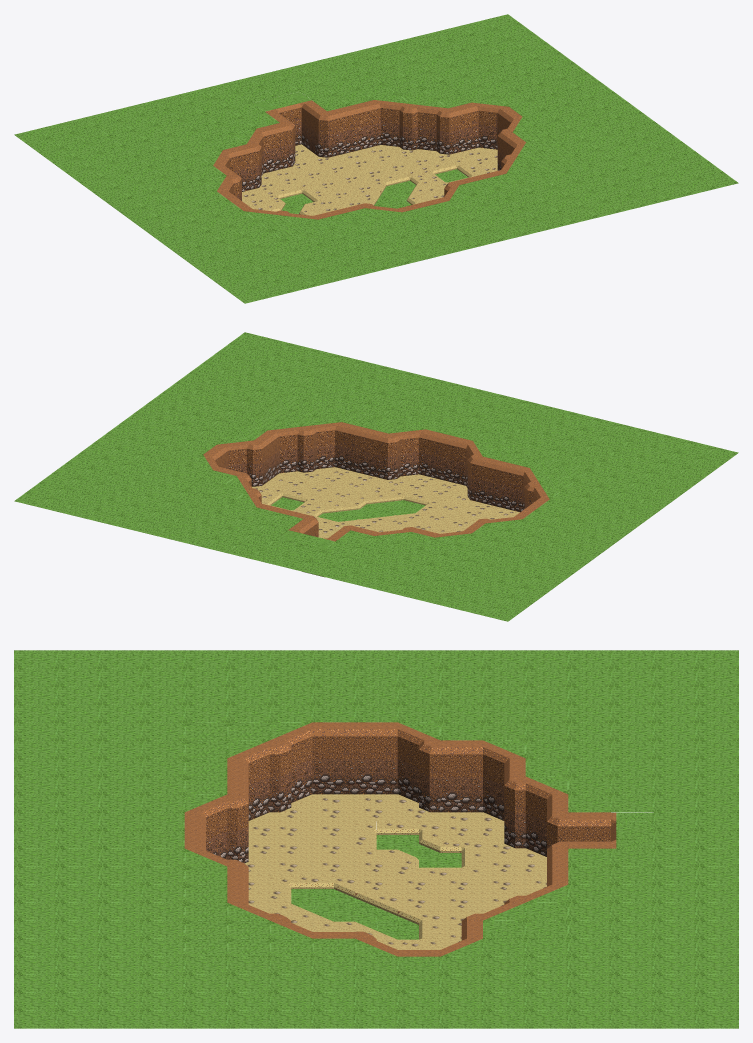
Rendered from Mine_01_Surface_v7.fbx.
3 renders of one model, top to bottom at view 1: azimuth 30°, elevation 25°; view 2: azimuth 150°, elevation 25°; view 3: azimuth 270°, elevation 25°, orthographic. The views are drawn at different scales.
Parts seen in each view (by area): view 1: Wall_Half_052, Wall_Half_038, Wall_Half_053, Wall_Half_059, Wall_Corner_A_057, Wall_Corner_B_032, Wall_Corner_A_052.001, Wall_Corner_A_052, Wall_Corner_B_041, Wall_Corner_B_040, Wall_Half_051, Wall_Half_023 (+4 smaller); view 2: Wall_Half_069, Wall_Half_064, Wall_Half_070, Wall_Half_071, Wall_Half_072, Wall_Half_068, Wall_Corner_B_038, Wall_Corner_A_051.001, Wall_Corner_A_051.002, Wall_Corner_A_051, Wall_Corner_B_039, Wall_Corner_B_021 (+3 smaller); view 3: Wall_Half_067, Wall_Half_056, Wall_Half_066, Wall_Corner_A_005, Wall_Corner_A_005.002, Wall_Corner_A_047, Wall_Corner_A_005.001, Wall_Corner_A_047.001, Wall_Corner_B_037, Wall_Corner_B_036, Wall_Corner_B_035, Wall_Corner_B_019 (+297 smaller).
Boxes of the visible parts, x1=… form: Wall_Half_052: x1=327, y1=105, x2=363, y2=161; Wall_Half_038: x1=257, y1=123, x2=293, y2=178; Wall_Half_053: x1=351, y1=100, x2=387, y2=155; Wall_Half_059: x1=449, y1=102, x2=484, y2=157; Wall_Corner_A_057: x1=472, y1=97, x2=508, y2=152; Wall_Corner_B_032: x1=425, y1=108, x2=461, y2=163; Wall_Corner_A_052.001: x1=374, y1=94, x2=410, y2=149; Wall_Corner_A_052: x1=411, y1=98, x2=447, y2=153; Wall_Corner_B_041: x1=304, y1=111, x2=339, y2=166; Wall_Corner_B_040: x1=388, y1=104, x2=424, y2=159; Wall_Half_051: x1=223, y1=144, x2=259, y2=198; Wall_Half_023: x1=295, y1=101, x2=326, y2=156; Wall_Half_069: x1=436, y1=435, x2=472, y2=490; Wall_Half_064: x1=469, y1=456, x2=505, y2=512; Wall_Half_070: x1=413, y1=429, x2=448, y2=484; Wall_Half_071: x1=352, y1=428, x2=388, y2=483; Wall_Half_072: x1=328, y1=422, x2=364, y2=477; Wall_Half_068: x1=493, y1=462, x2=529, y2=517; Wall_Corner_B_038: x1=291, y1=426, x2=327, y2=481; Wall_Corner_A_051.001: x1=305, y1=416, x2=341, y2=471; Wall_Corner_A_051.002: x1=267, y1=420, x2=303, y2=475; Wall_Corner_A_051: x1=389, y1=423, x2=425, y2=479; Wall_Corner_B_039: x1=375, y1=433, x2=411, y2=489; Wall_Corner_B_021: x1=247, y1=440, x2=276, y2=495; Wall_Half_067: x1=312, y1=722, x2=355, y2=803; Wall_Half_056: x1=440, y1=740, x2=482, y2=821; Wall_Half_066: x1=355, y1=722, x2=397, y2=803; Wall_Corner_A_005: x1=525, y1=776, x2=568, y2=857; Wall_Corner_A_005.002: x1=397, y1=722, x2=440, y2=803; Wall_Corner_A_047: x1=270, y1=722, x2=312, y2=803; Wall_Corner_A_005.001: x1=483, y1=740, x2=525, y2=821; Wall_Corner_A_047.001: x1=227, y1=740, x2=269, y2=821; Wall_Corner_B_037: x1=397, y1=740, x2=440, y2=821; Wall_Corner_B_036: x1=483, y1=776, x2=525, y2=857; Wall_Corner_B_035: x1=270, y1=740, x2=312, y2=821; Wall_Corner_B_019: x1=227, y1=794, x2=269, y2=875.
Bounding box in the file's own units: 4200 × 350 × 3400.
Materials: 16 (16 with a texture image).
